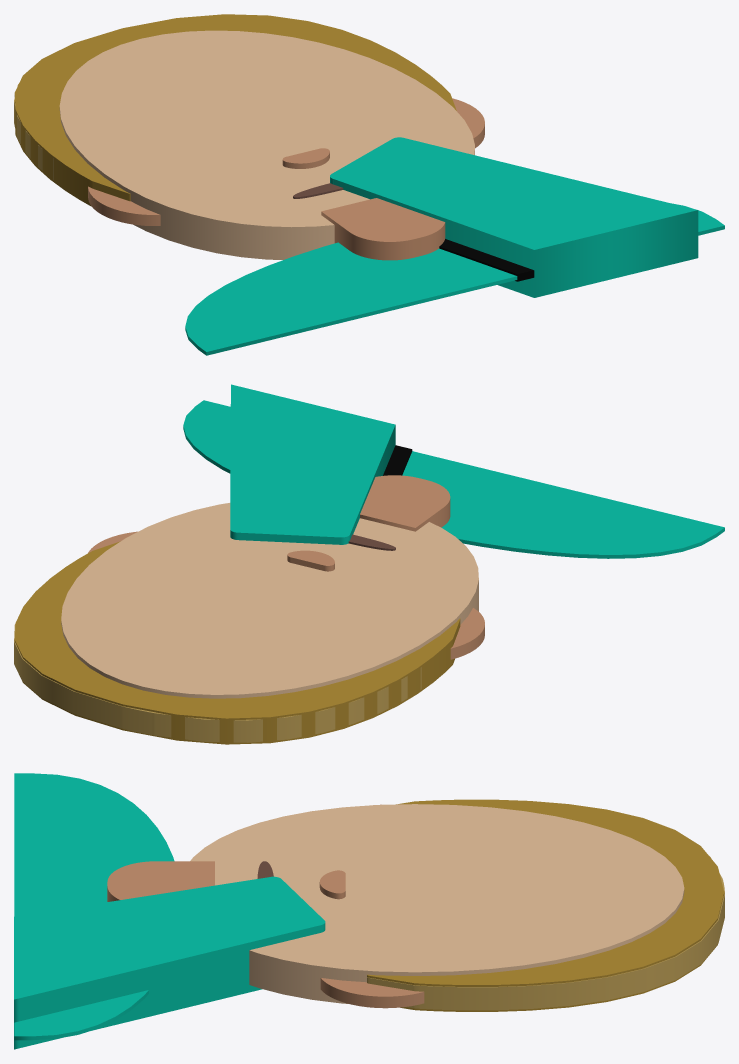
Rendered from emoji_u1f926_1f3fc_200d_2642.glb.
3 views of the same model, one above another, from view 1: azimuth 30°, elevation 25°; view 2: azimuth 150°, elevation 25°; view 3: azimuth 270°, elevation 25° (orthographic). The views are drawn at different scales.
Visible parts, largest first — view 1: emoji_u1f926_1f3fc_200d_2642; view 2: emoji_u1f926_1f3fc_200d_2642; view 3: emoji_u1f926_1f3fc_200d_2642.
Boxes of the visible parts, left/top/right/bottom form: emoji_u1f926_1f3fc_200d_2642: left=14, top=14, right=724, bottom=355; emoji_u1f926_1f3fc_200d_2642: left=14, top=384, right=724, bottom=744; emoji_u1f926_1f3fc_200d_2642: left=14, top=773, right=724, bottom=1049.
Bounding box in the file's own units: 0.0294 × 0.0026 × 0.0335.
